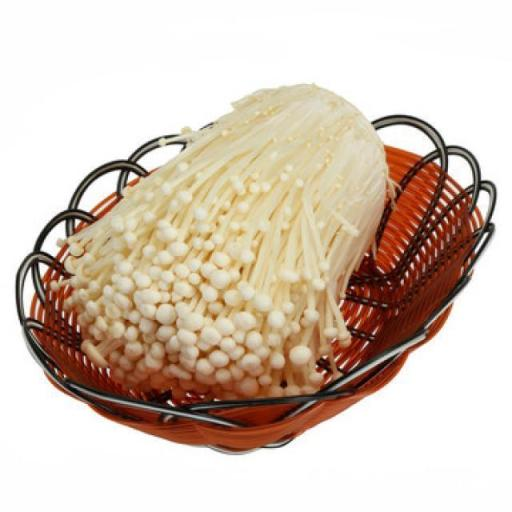Enoki Mushroom: (47, 82, 398, 392)
